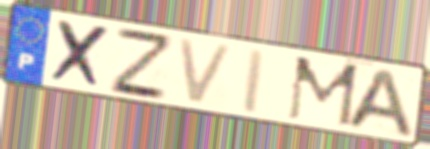A: (341, 67, 417, 141)
I: (238, 46, 269, 116)
M: (285, 54, 362, 130)
V: (175, 35, 237, 107)
X: (48, 18, 114, 92)
Z: (108, 24, 172, 103)
